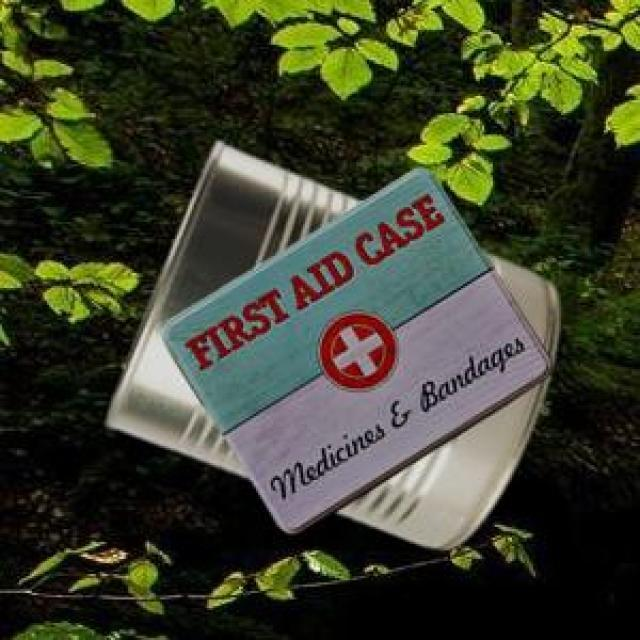Can: (106, 140, 556, 545), (159, 165, 547, 532)
